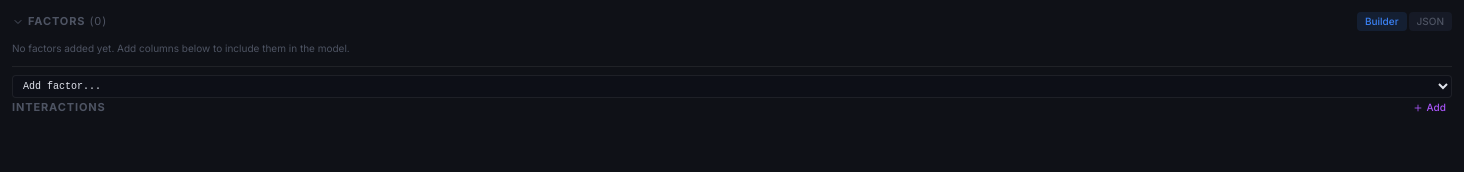
Test case: GLMFactorConfig › mode tabs are hidden when section is collapsed
Click the button "Factors (0)" at (60, 22), box x1=12 y1=13 x2=107 y2=30
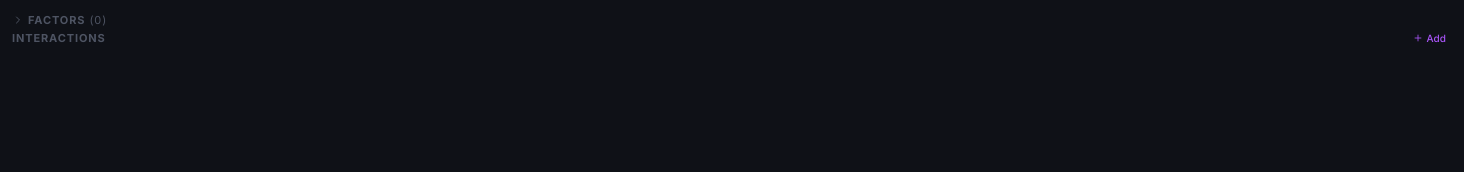
Check: the button "Builder" is gone
Check: the button "JSON" is gone
